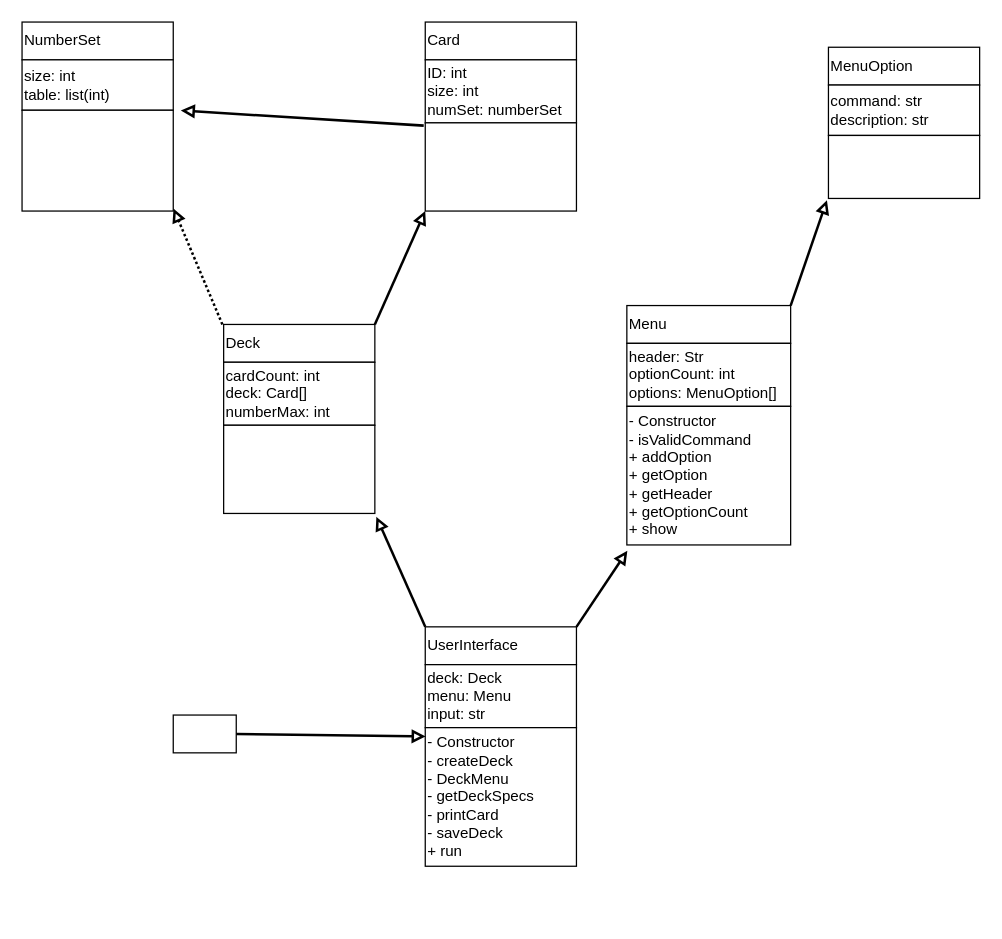
Some shapes in this 1002 by 939 pixel diagram are drawn without their labels. Each missing label, with the box of its shape:
- Constructor + getCardCount + getCard + print: (222, 424, 375, 513)
- Constructor + getCommand + getDescription: (827, 134, 980, 198)
- Constructor + getID + getSize + print: (424, 122, 576, 211)
- Constructor + getSize + get(index) + randomize + getNext: (21, 109, 173, 211)
Bingo: (172, 714, 236, 753)
